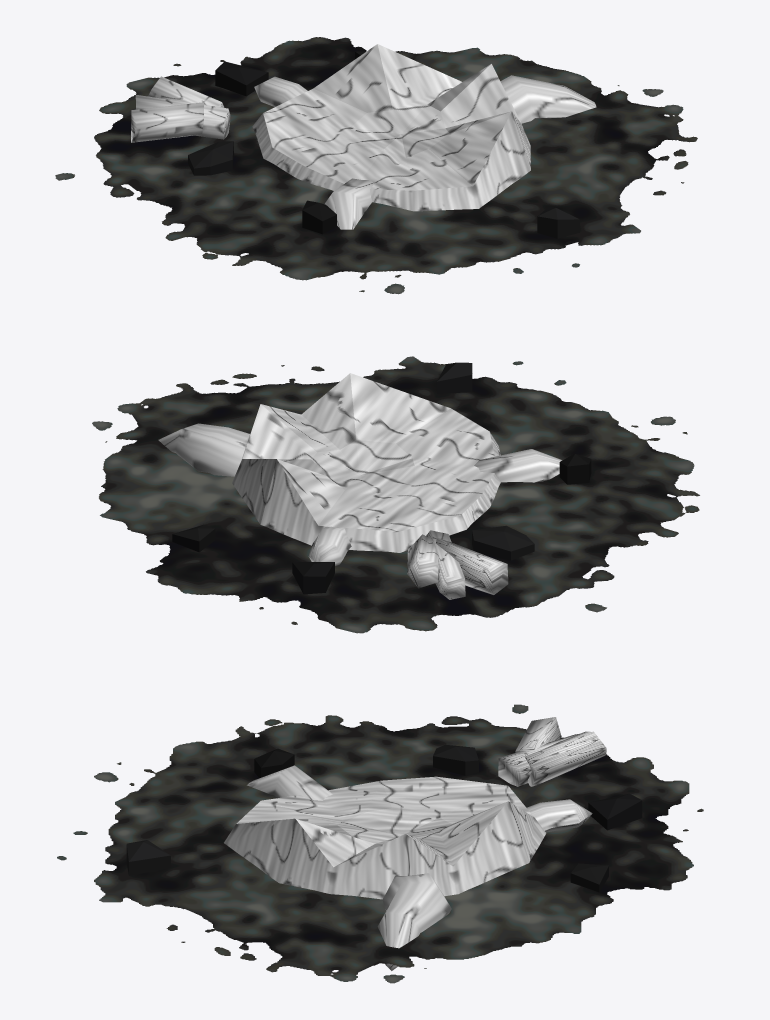
File: CreTreesmudge02.glb
3 views of the same model, one above another, from view 1: azimuth 30°, elevation 25°; view 2: azimuth 150°, elevation 25°; view 3: azimuth 270°, elevation 25° (orthographic). The views are drawn at different scales.
Visible parts, largest first — view 1: CreTreesmudge02_bed; view 2: CreTreesmudge02_bed; view 3: CreTreesmudge02_bed.
Boxes of the visible parts, x1,y1,x2,y2 form: CreTreesmudge02_bed: [55, 37, 697, 294]; CreTreesmudge02_bed: [92, 356, 699, 633]; CreTreesmudge02_bed: [57, 704, 703, 983].
Bounding box in the file's own units: 2.95 × 0.3478 × 2.9.
3 materials, 2 textured.
